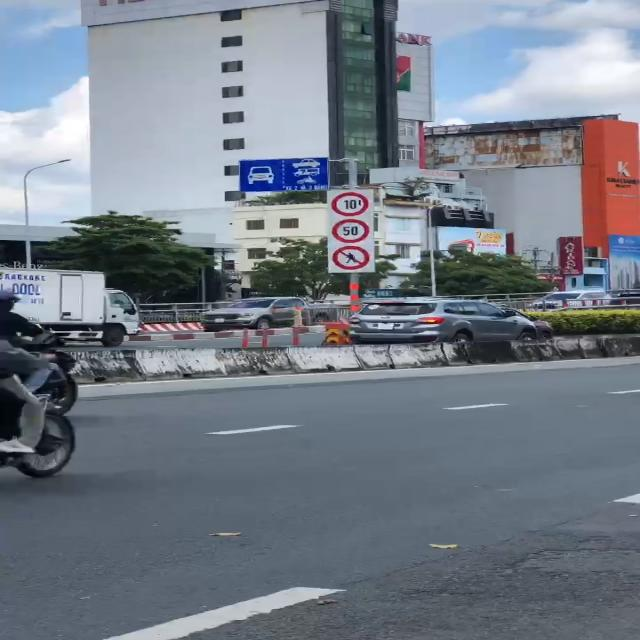Bien bao cam nguoi di bo: (330, 243, 376, 271)
Bien bao toc do toi da cho phep: (330, 218, 380, 245)
